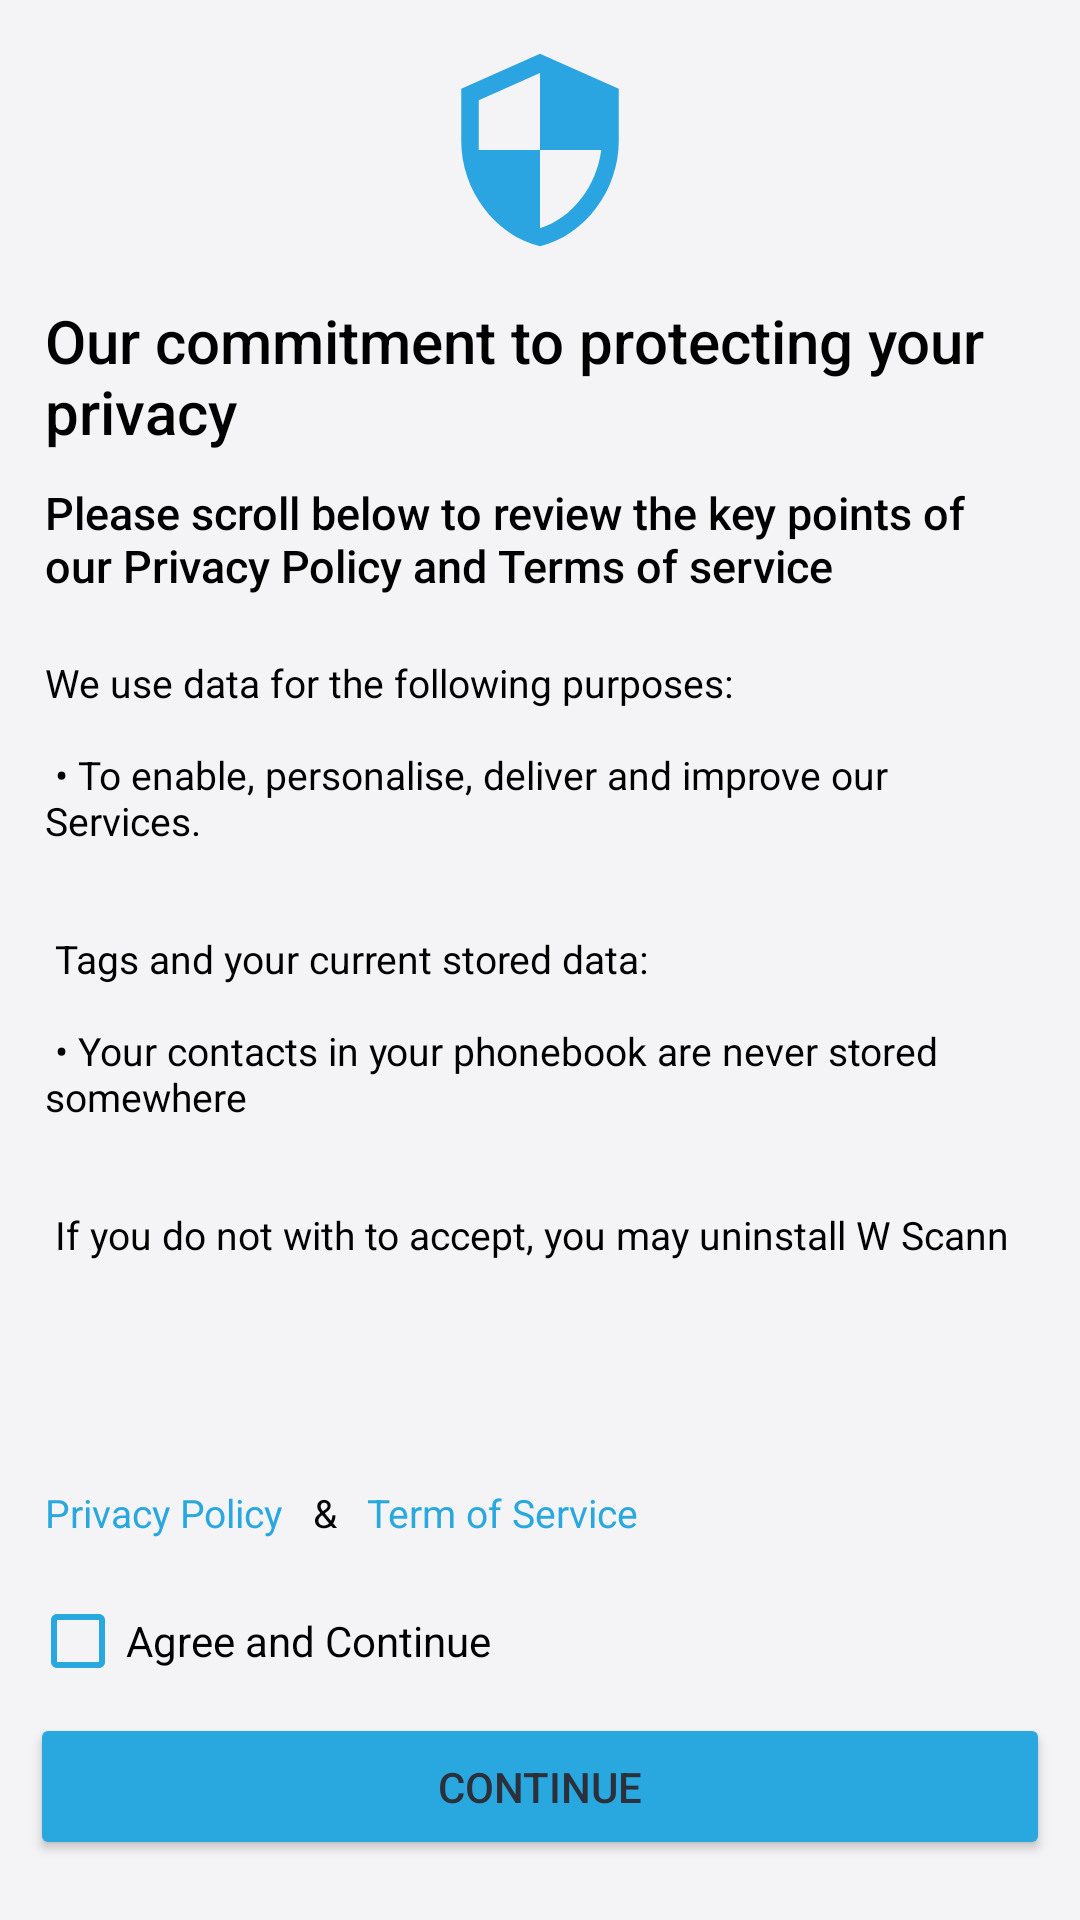

Icons on this 1080w x 1920h Android screen, each with the point to tap as (x=x, y=y):
security: (x=540, y=150)
